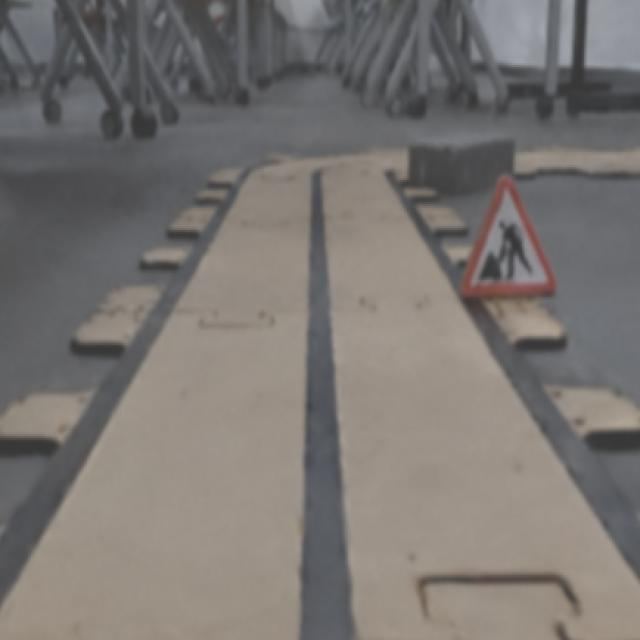WORKERS: (462, 176, 554, 295)
